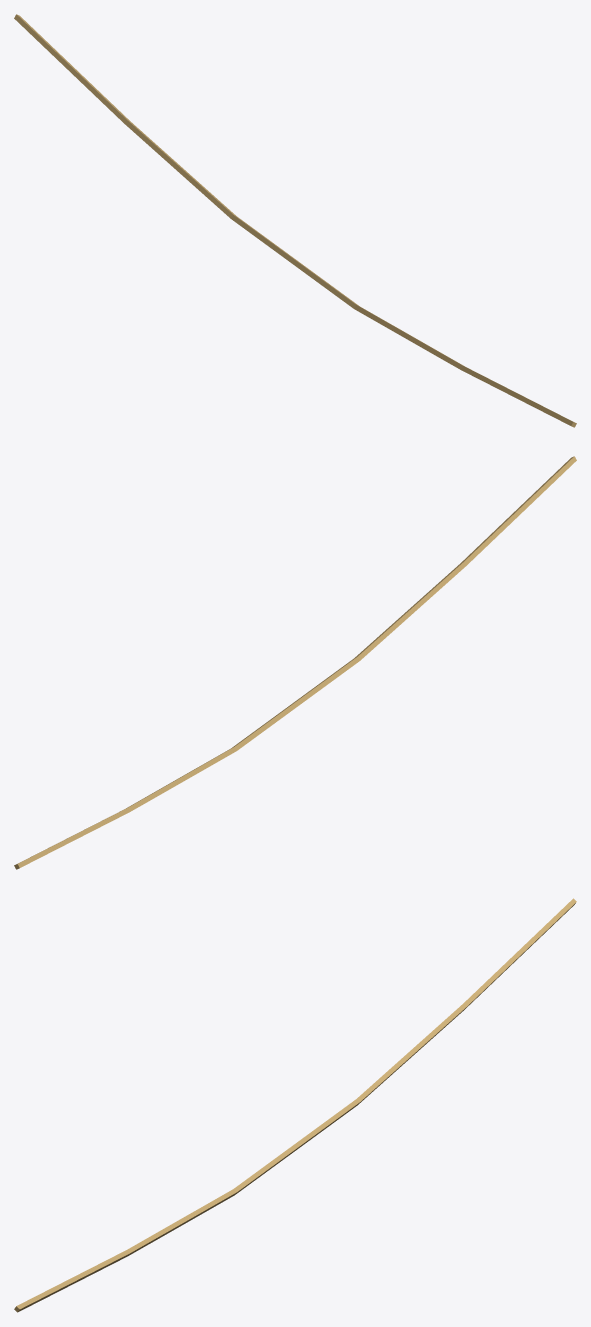
The picture shows the model from 3 angles, top to bottom: view 1: azimuth 30°, elevation 25°; view 2: azimuth 150°, elevation 25°; view 3: azimuth 330°, elevation 25°; orthographic projection.
Parts seen in each view (by area): view 1: Cylinder; view 2: Cylinder; view 3: Cylinder.
Part boxes in pixels (bbox=[...]): Cylinder: bbox=[14, 14, 576, 427]; Cylinder: bbox=[14, 456, 576, 869]; Cylinder: bbox=[14, 898, 576, 1312].
Size of the model in its own units: 5.88 by 45.74 by 964.
